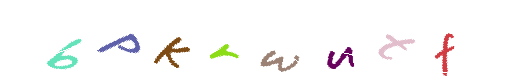B: (24, 0, 104, 80)
F: (300, 0, 380, 80)
K: (183, 0, 263, 80)
P: (89, 0, 169, 80)
R: (215, 0, 295, 80)
T: (284, 0, 364, 80)
U: (247, 0, 327, 80)
W: (246, 0, 326, 80)
